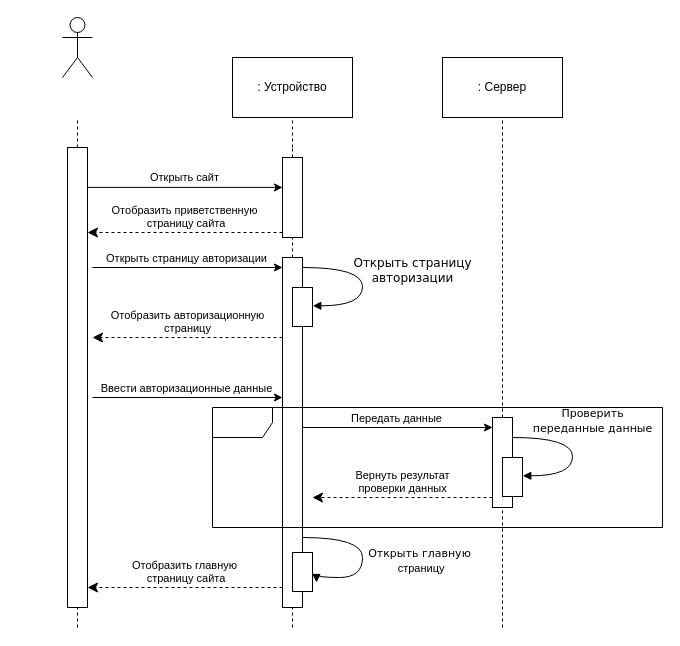
Some shapes in this 680 by 646 pixel diagram are drawn without their labels. Each missing label, with the centre of its shape:
"loop" goes at (437,467).
"Неавторизированный пользователь" goes at (77,47).
